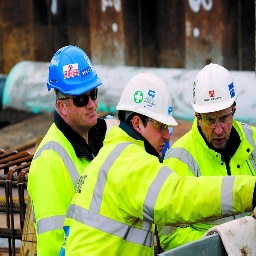helmet: (117, 68, 178, 128), (45, 47, 102, 102), (184, 65, 241, 117)
person: (164, 62, 256, 256), (93, 73, 182, 256), (28, 45, 102, 256)
vest: (172, 128, 256, 255), (90, 128, 160, 256), (33, 119, 98, 255)
